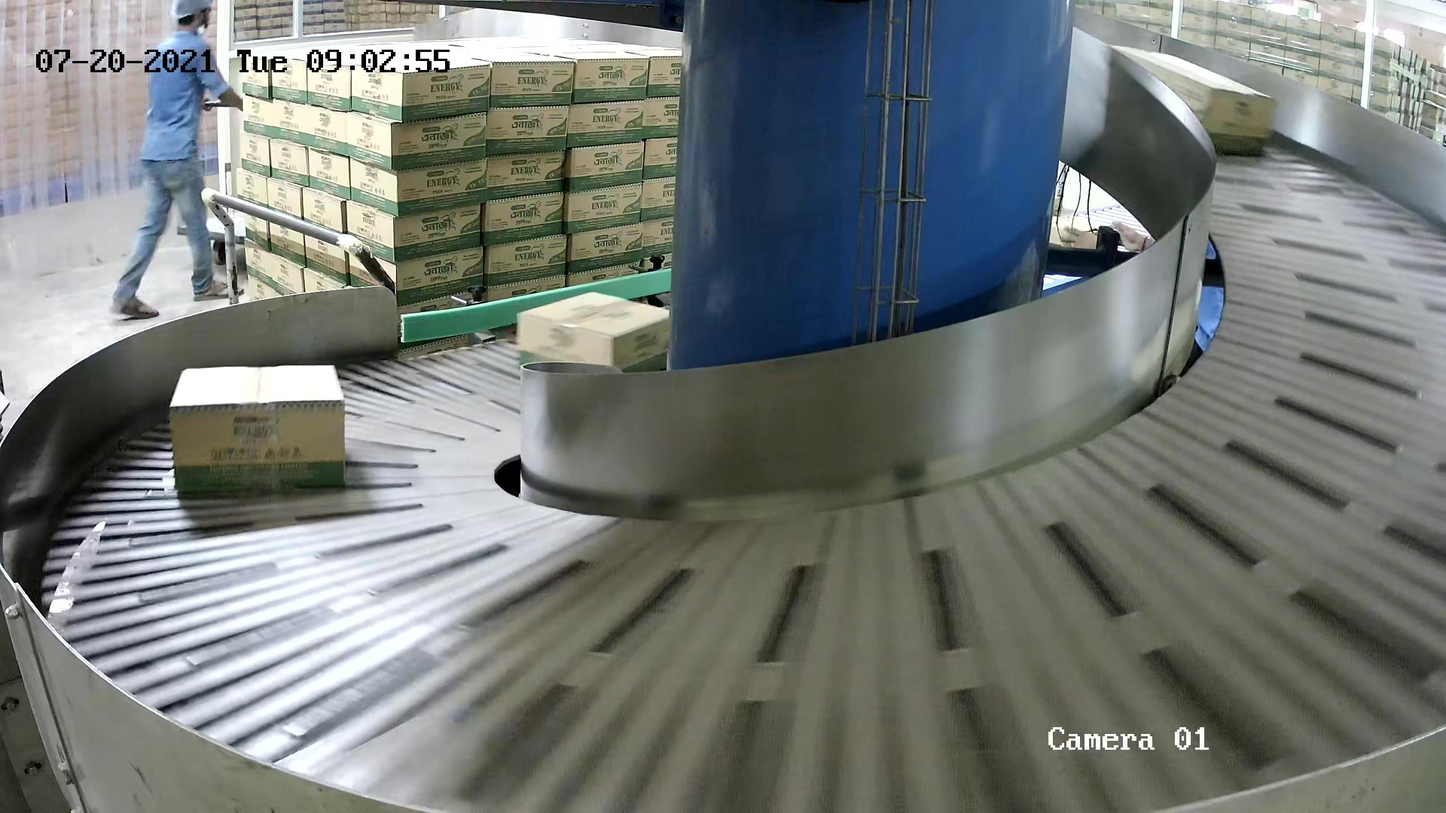Box: (170, 361, 354, 502), (1094, 37, 1274, 161), (515, 291, 684, 401)
